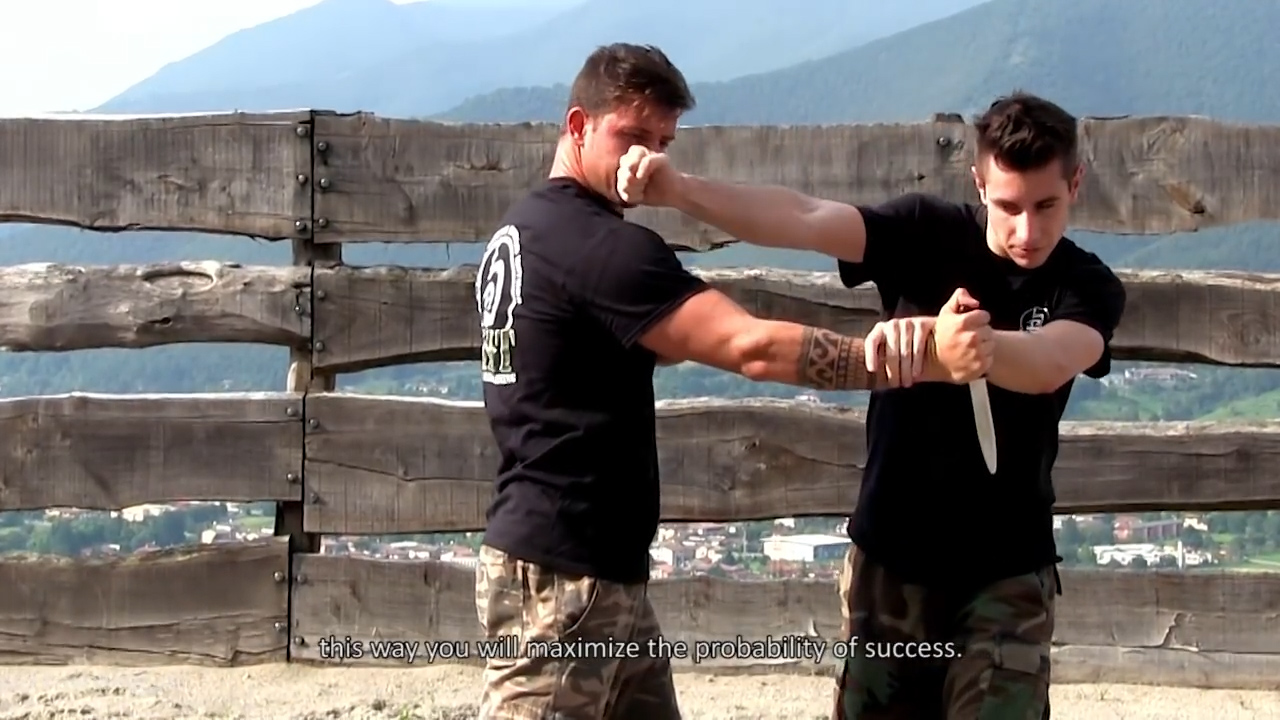knife: (946, 287, 1003, 479)
